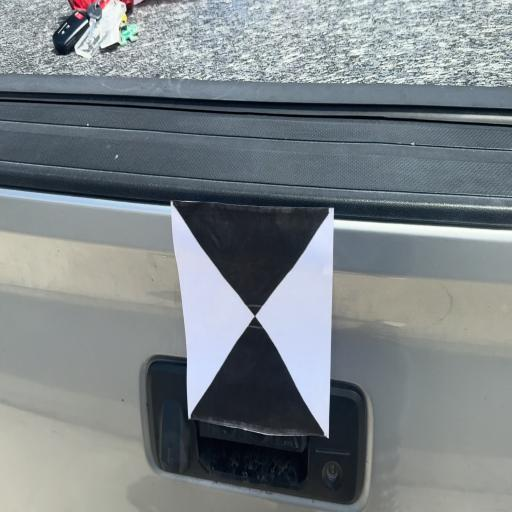target: (172, 202, 333, 438)
